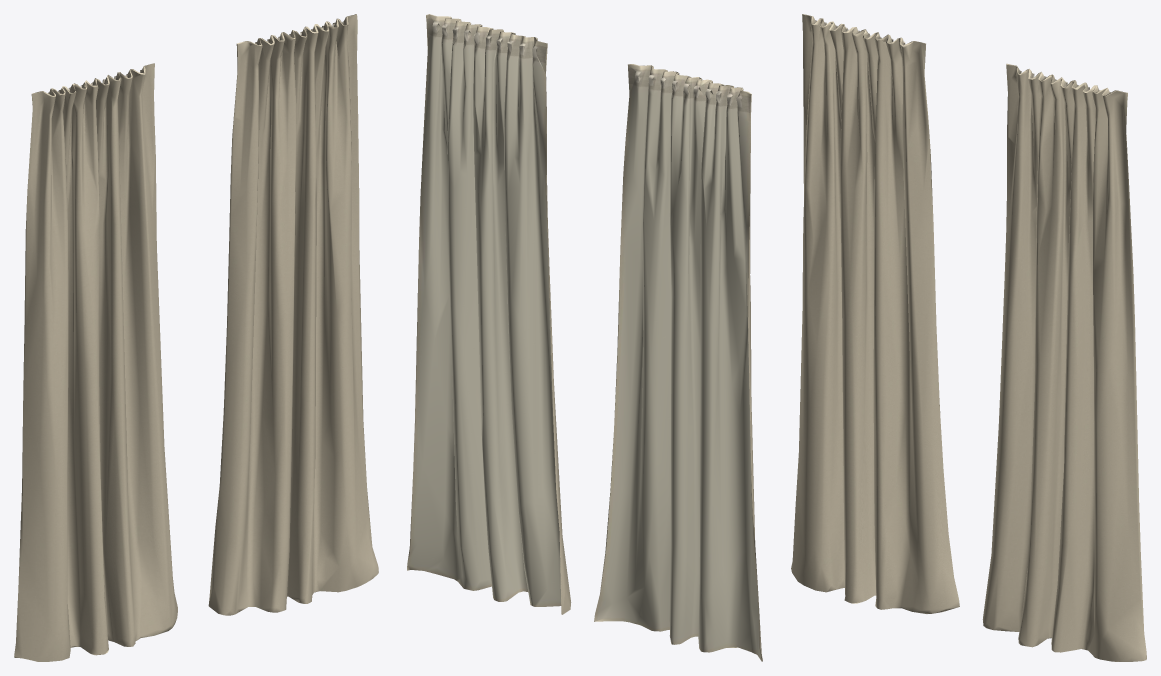
The model's file is korgmott_zasony_zaciemniajace_para_50597158.glb.
3 renders of one model, left to right at view 1: azimuth 30°, elevation 25°; view 2: azimuth 150°, elevation 25°; view 3: azimuth 330°, elevation 25°, orthographic.
Parts seen in each view (by area): view 1: korgmott_zasony_zaciemniajace_para_50597158; view 2: korgmott_zasony_zaciemniajace_para_50597158; view 3: korgmott_zasony_zaciemniajace_para_50597158.
Boxes of the visible parts, <box> form: korgmott_zasony_zaciemniajace_para_50597158: <box>14,14,378,661</box>; korgmott_zasony_zaciemniajace_para_50597158: <box>407,14,762,661</box>; korgmott_zasony_zaciemniajace_para_50597158: <box>791,14,1146,661</box>.
Bounding box in the file's own units: 2.02 × 3.05 × 0.2176.
Materials: 2 (2 with a texture image).
